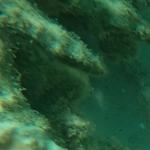dead: (12, 11, 127, 133)
